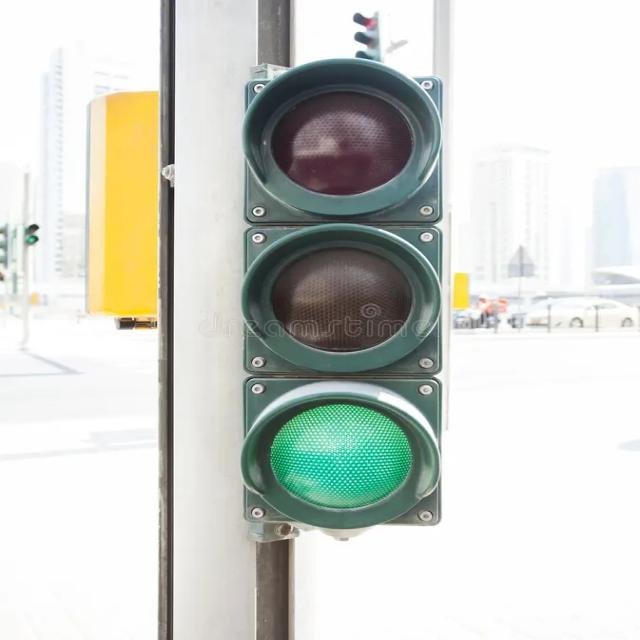green: (242, 374, 447, 527)
